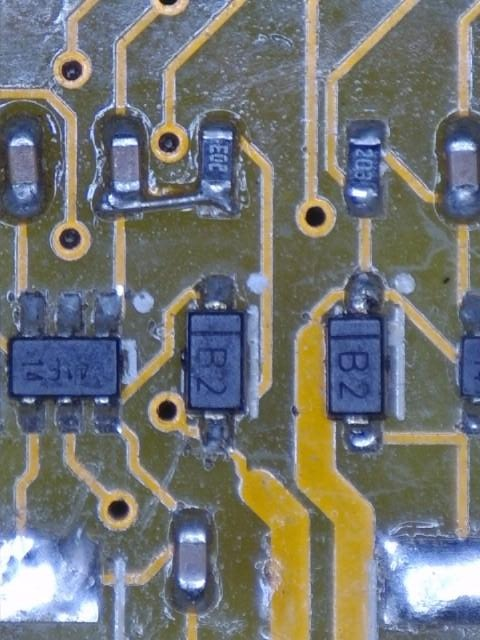pcb_defect: (101, 179, 237, 216), (346, 274, 384, 313), (19, 292, 45, 336), (445, 186, 480, 215), (93, 396, 120, 433), (96, 293, 121, 332), (58, 293, 82, 332), (204, 276, 232, 308), (58, 403, 81, 434), (19, 404, 44, 432)
